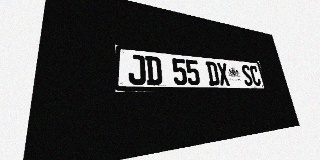5: (172, 58, 188, 85), (185, 59, 201, 85)
C: (249, 65, 262, 86)
D: (145, 56, 163, 85), (205, 61, 220, 85)
J: (128, 54, 146, 85)
S: (240, 64, 254, 86)
X: (216, 62, 230, 86)
